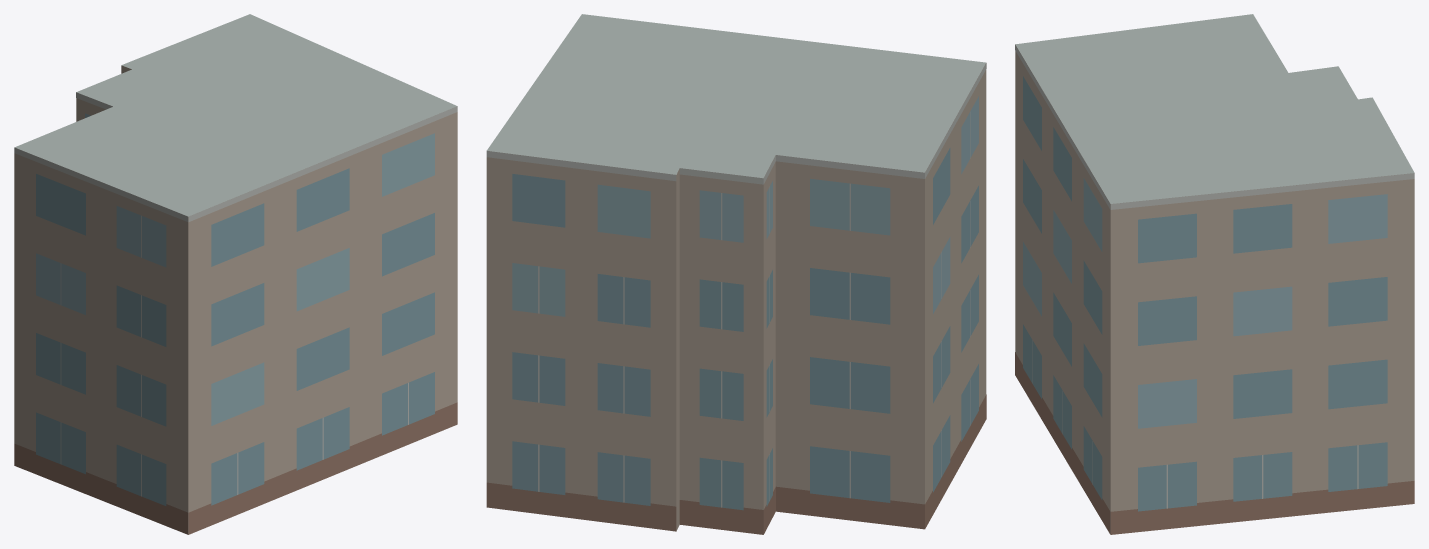
File: survey-upis-32786508.glb
The picture shows the model from 3 angles, left to right: view 1: azimuth 30°, elevation 25°; view 2: azimuth 150°, elevation 25°; view 3: azimuth 270°, elevation 25°; orthographic projection. The views are drawn at different scales.
Parts seen in each view (by area): view 1: survey-upis-32786508.tmp; view 2: survey-upis-32786508.tmp; view 3: survey-upis-32786508.tmp.
Part boxes in pixels (left/top/right/bottom): survey-upis-32786508.tmp: left=14, top=14, right=457, bottom=534; survey-upis-32786508.tmp: left=486, top=14, right=986, bottom=534; survey-upis-32786508.tmp: left=1015, top=14, right=1414, bottom=534.
Bounding box in the file's own units: 16.77 × 13.6 × 14.9.
